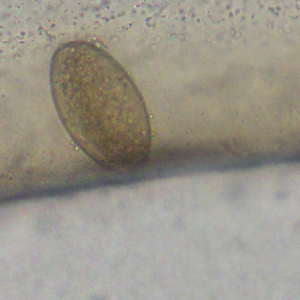Fasciola_hepatica_egg: (48, 39, 151, 176)
